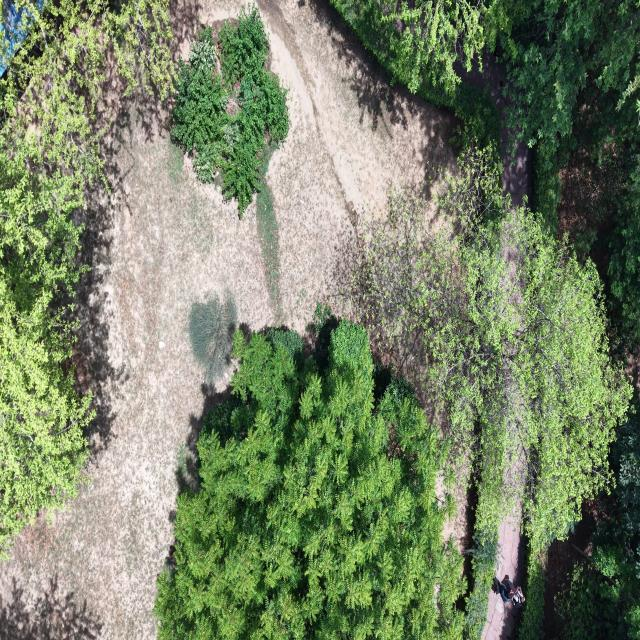DRY_AREA: (0, 0, 454, 639), (0, 111, 269, 638), (258, 0, 454, 328), (259, 0, 454, 213), (454, 51, 532, 206), (455, 51, 532, 206), (457, 51, 532, 206), (457, 52, 532, 205), (496, 368, 526, 586), (496, 414, 526, 586), (437, 468, 473, 554), (497, 513, 523, 585), (624, 347, 639, 393)
PATHWAYS: (456, 52, 531, 206)
VEGETATION_TREE: (156, 0, 639, 639), (334, 0, 639, 637), (354, 150, 630, 637), (355, 151, 630, 548), (333, 0, 639, 344), (156, 317, 463, 639), (0, 0, 171, 556), (354, 149, 519, 638), (354, 152, 516, 638), (333, 0, 639, 220), (476, 215, 630, 634), (353, 148, 516, 455), (501, 0, 639, 345), (506, 2, 639, 351), (512, 219, 631, 551), (0, 149, 92, 554), (0, 0, 172, 193), (520, 357, 633, 638), (499, 0, 639, 187), (332, 0, 507, 148), (171, 6, 289, 217), (499, 0, 639, 154), (558, 110, 639, 350), (556, 415, 639, 639), (333, 0, 496, 96), (465, 414, 514, 639), (555, 545, 639, 639), (599, 155, 639, 346), (189, 292, 237, 383), (256, 148, 281, 317), (614, 414, 639, 547), (517, 546, 545, 639)
